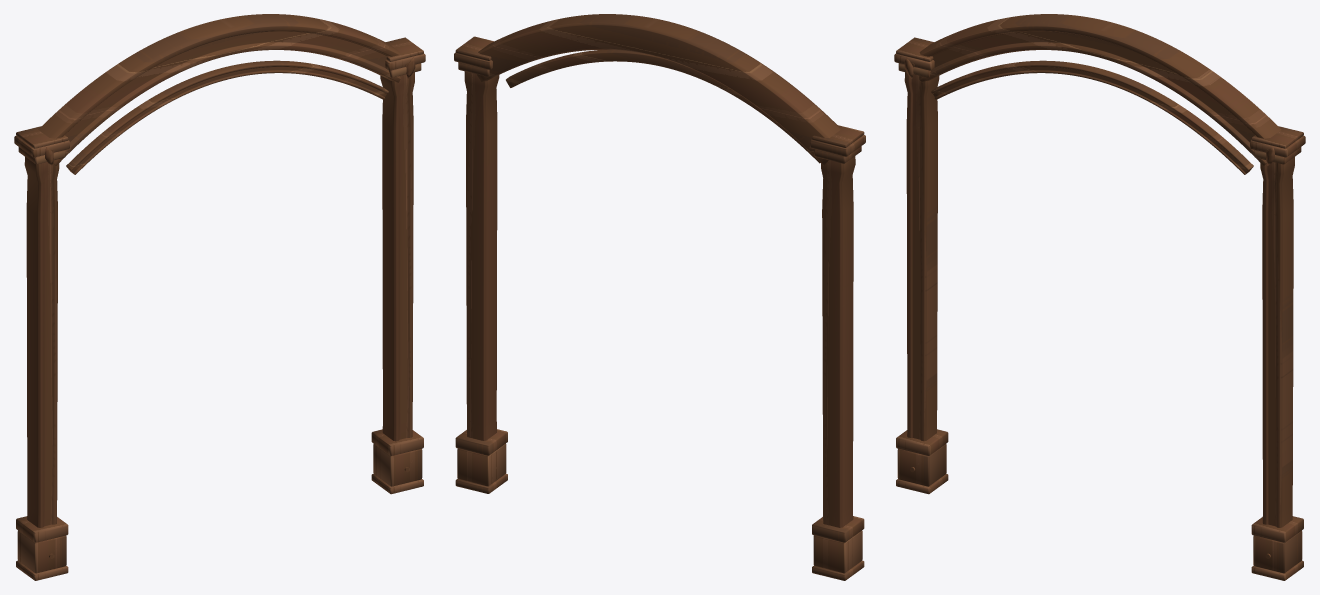
File: CM_C05_EntrancePortal.fbx
3 renders of one model, left to right at view 1: azimuth 30°, elevation 25°; view 2: azimuth 150°, elevation 25°; view 3: azimuth 330°, elevation 25°, orthographic.
Visible parts, largest first — view 1: CM_C05_EntrancePortal; view 2: CM_C05_EntrancePortal; view 3: CM_C05_EntrancePortal.
Boxes of the visible parts, bbox=[...] form: CM_C05_EntrancePortal: bbox=[14, 14, 425, 580]; CM_C05_EntrancePortal: bbox=[454, 14, 865, 580]; CM_C05_EntrancePortal: bbox=[894, 14, 1305, 580].
Bounding box in the file's own units: 2.43 × 2.98 × 0.2219.
